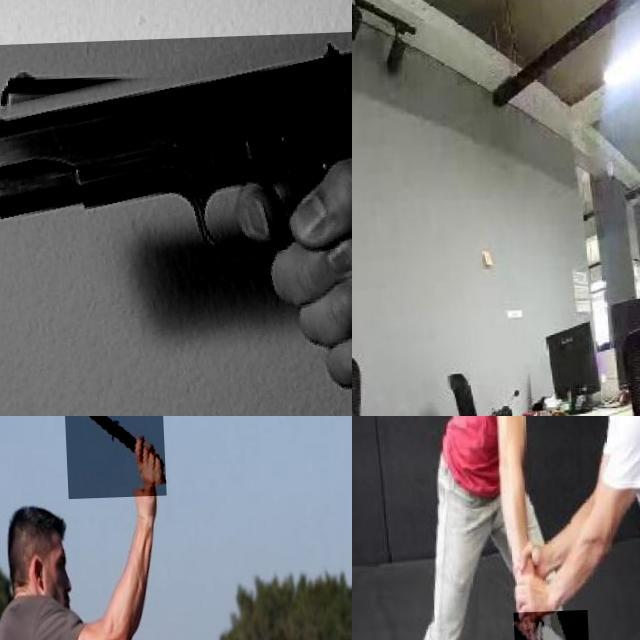-: (61, 416, 163, 501), (510, 612, 586, 640)
gun-knife-thesis - v11 Yolov5 augmented: (0, 31, 352, 416)
